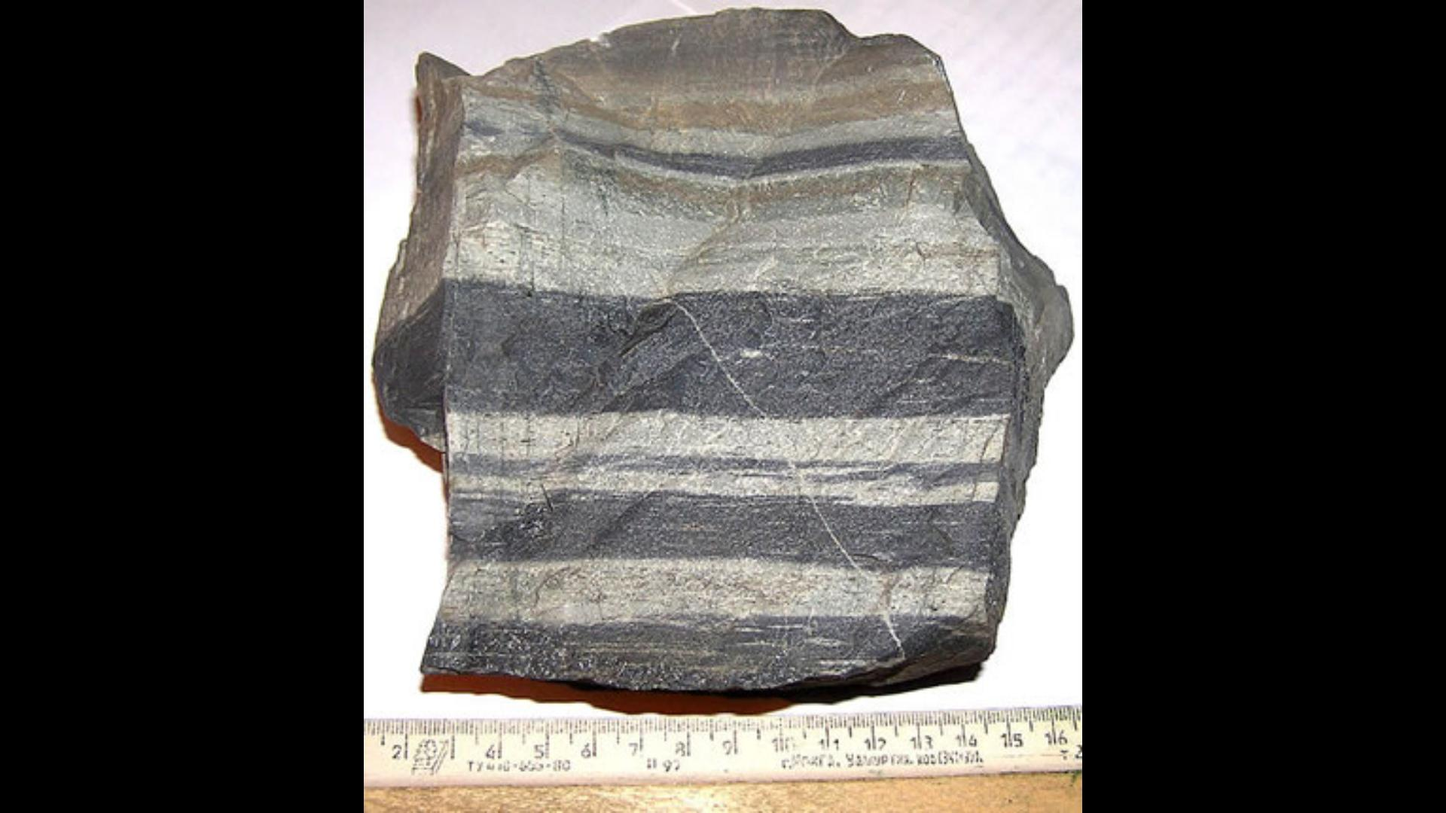rock: (377, 9, 1069, 688)
